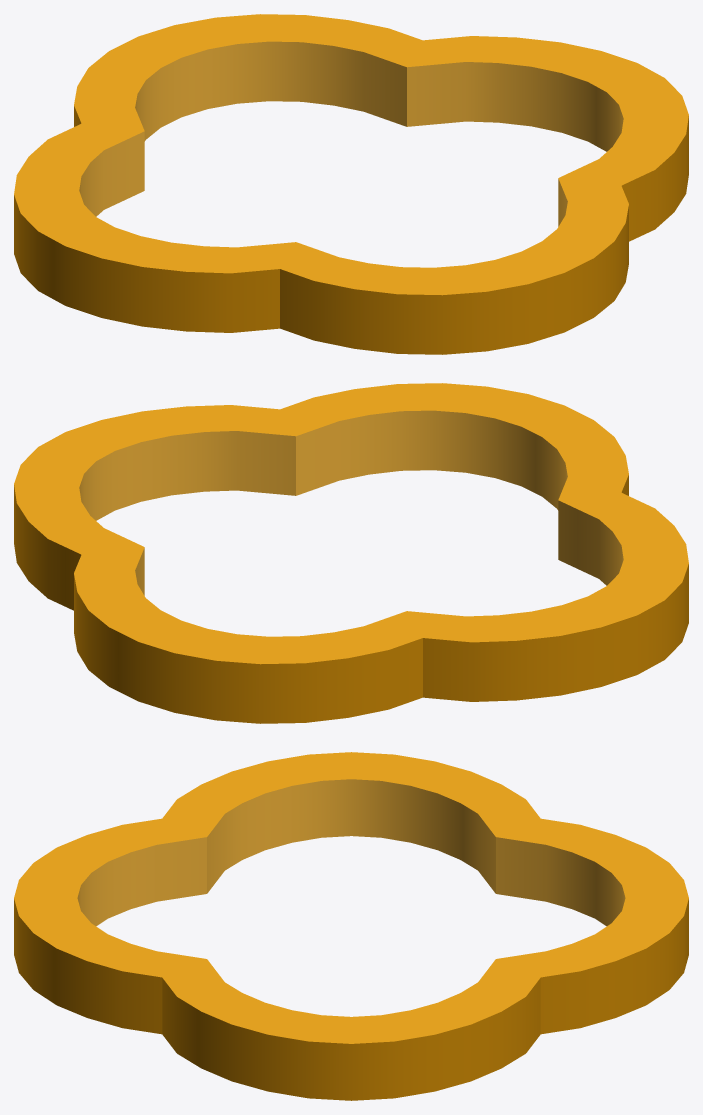
Rendered from Pepper Yellow Slice.fbx.
3 renders of one model, top to bottom at view 1: azimuth 30°, elevation 25°; view 2: azimuth 150°, elevation 25°; view 3: azimuth 270°, elevation 25°, orthographic. The views are drawn at different scales.
Visible parts, largest first — view 1: Pepper Yellow Slice; view 2: Pepper Yellow Slice; view 3: Pepper Yellow Slice.
Boxes of the visible parts, left/top/right/bottom form: Pepper Yellow Slice: left=14, top=14, right=688, bottom=354; Pepper Yellow Slice: left=14, top=383, right=688, bottom=723; Pepper Yellow Slice: left=14, top=752, right=688, bottom=1100.
Size of the model in its own units: 0.4942 by 0.0449 by 0.483.
